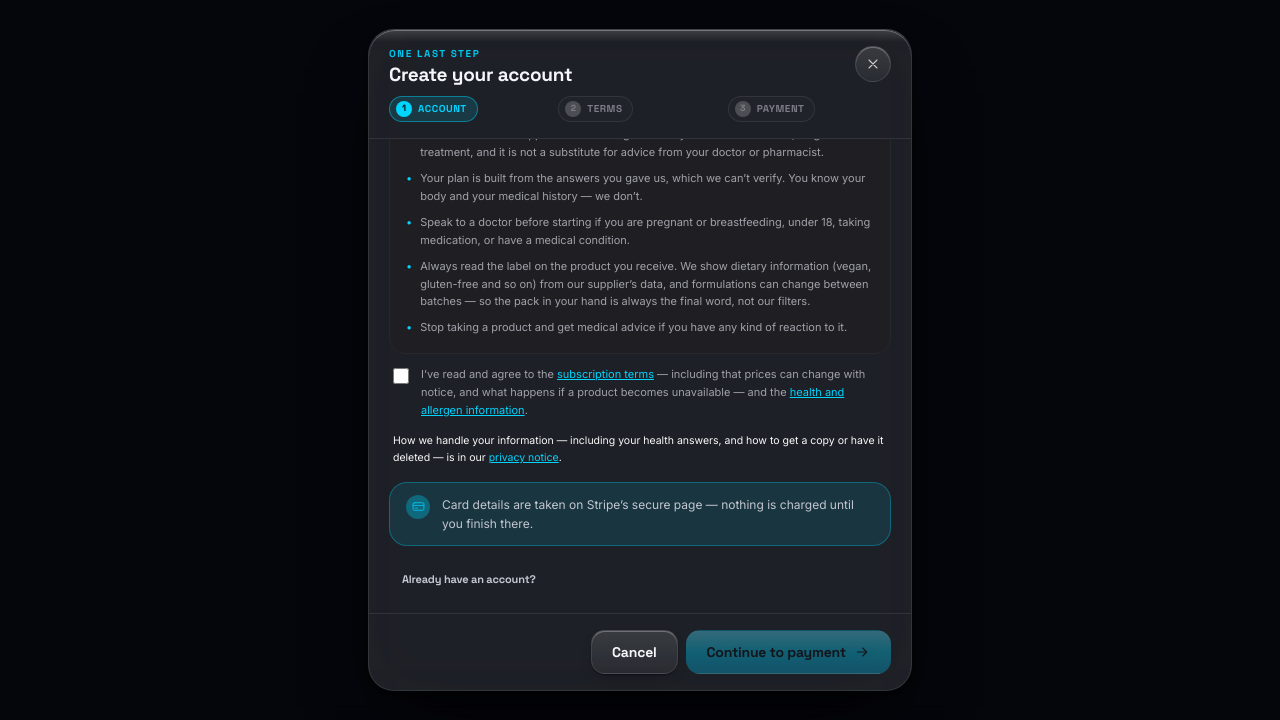
it: AccountGate sign-in with a provider › says so when the stash fails, instead of swallowing it
This screenshot has width=1280, height=720.
(page scrolled)
Click the checkbox: x=401, y=376 left=393, top=368, right=409, bottom=384
(page scrolled)
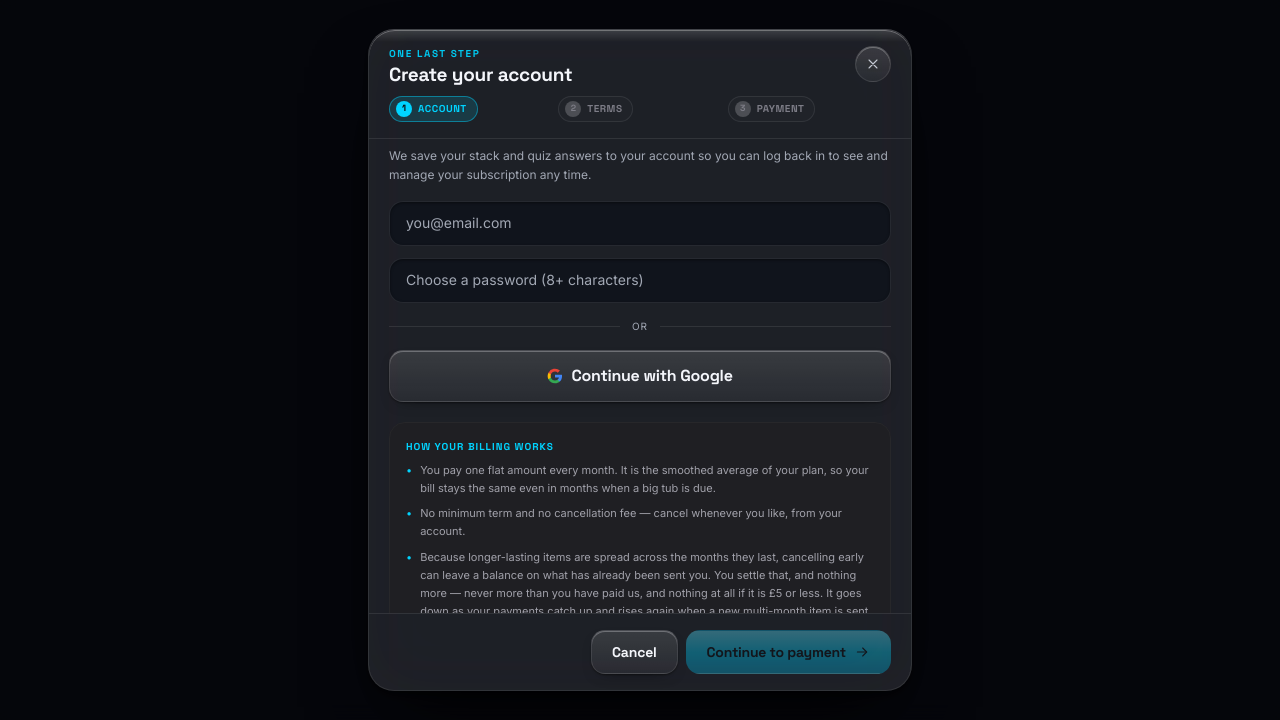
Click the button "Continue with Google": x=640, y=376 left=389, top=350, right=891, bottom=402
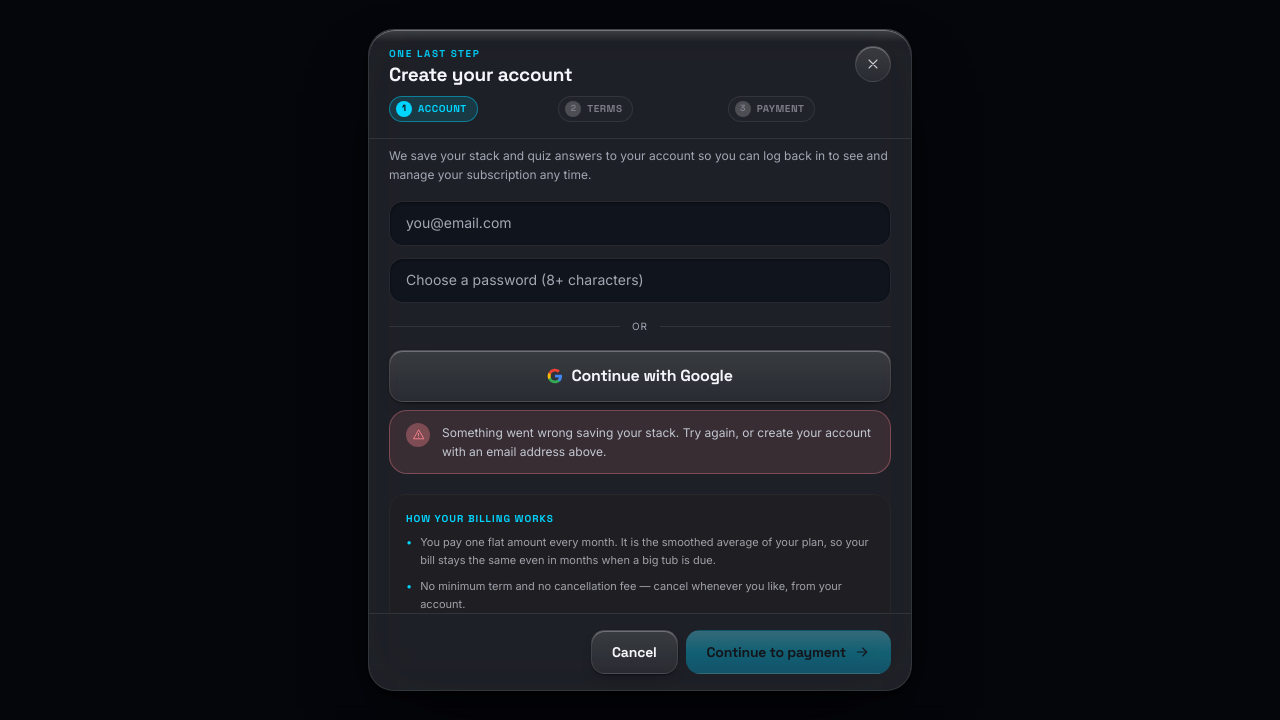
Now the text "Something went wrong saving your stack" is shown, box left=442, top=424, right=871, bottom=459
